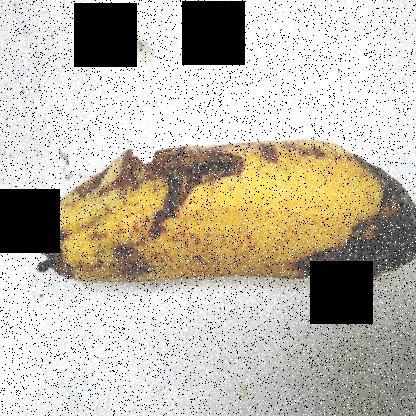rotten: (66, 109, 272, 276), (302, 125, 416, 334)
